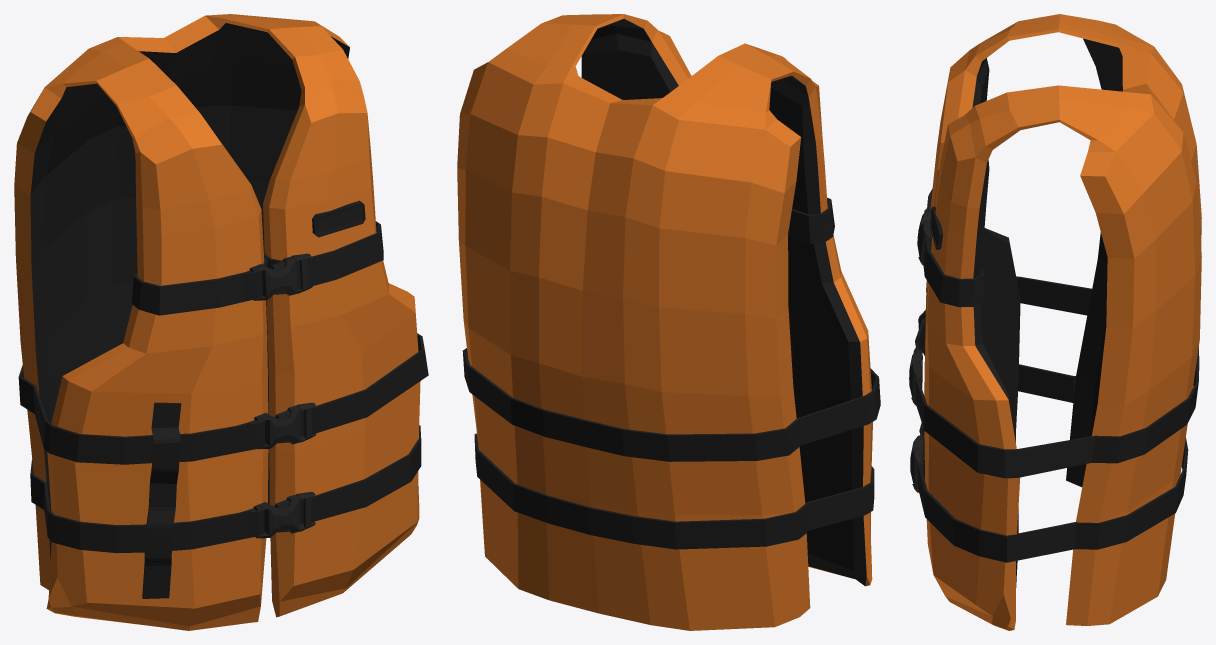
Rendered from life_vest__life_jacket_low_poly.glb.
3 renders of one model, left to right at view 1: azimuth 30°, elevation 25°; view 2: azimuth 150°, elevation 25°; view 3: azimuth 270°, elevation 25°, orthographic. The views are drawn at different scales.
Parts seen in each view (by area): view 1: LifeJacket; view 2: LifeJacket; view 3: LifeJacket.
Boxes of the visible parts, x1,y1,x2,y2 form: LifeJacket: [14, 14, 428, 630]; LifeJacket: [457, 14, 880, 630]; LifeJacket: [909, 14, 1201, 630].
Bounding box in the file's own units: 0.1473 × 0.1999 × 0.1028.
